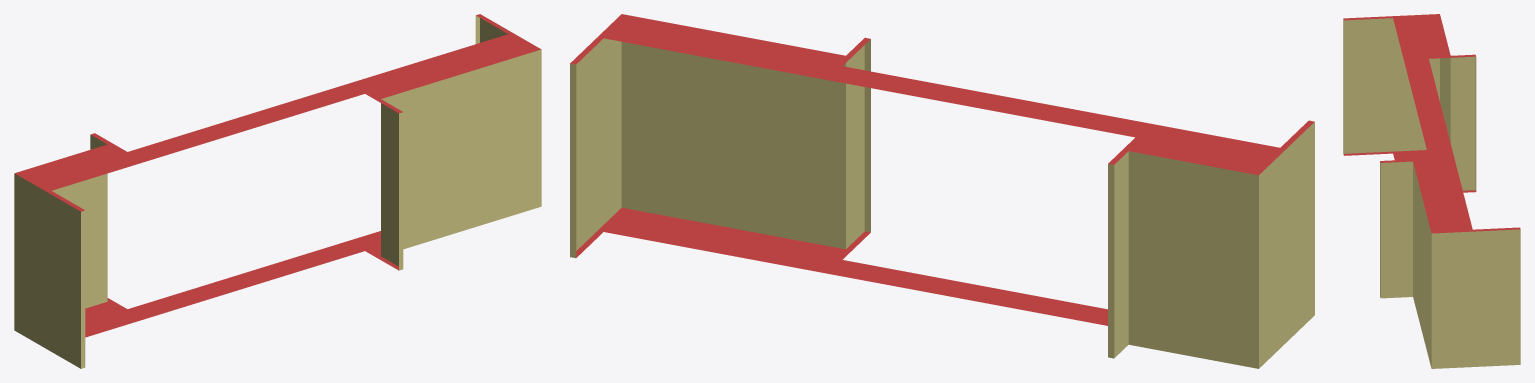
The picture shows the model from 3 angles, left to right: view 1: azimuth 30°, elevation 25°; view 2: azimuth 150°, elevation 25°; view 3: azimuth 270°, elevation 25°; orthographic projection. The views are drawn at different scales.
Bounding box in the file's own units: 27.6 × 9.41 × 7.94.
